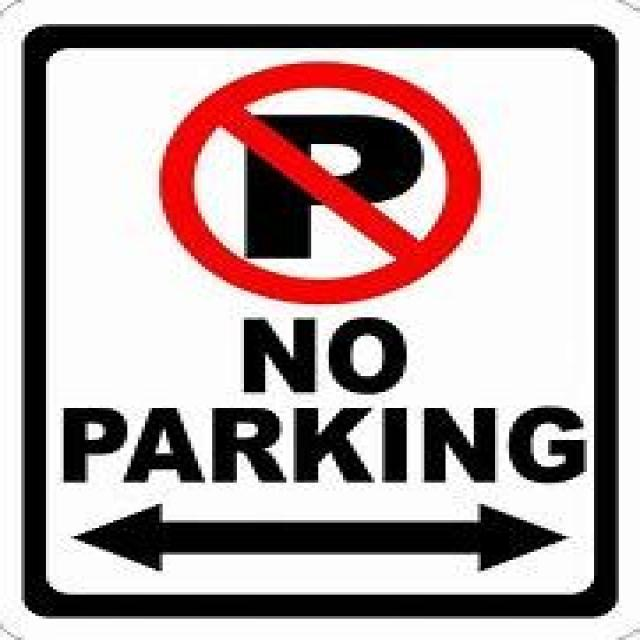no parking: (159, 56, 484, 309)
